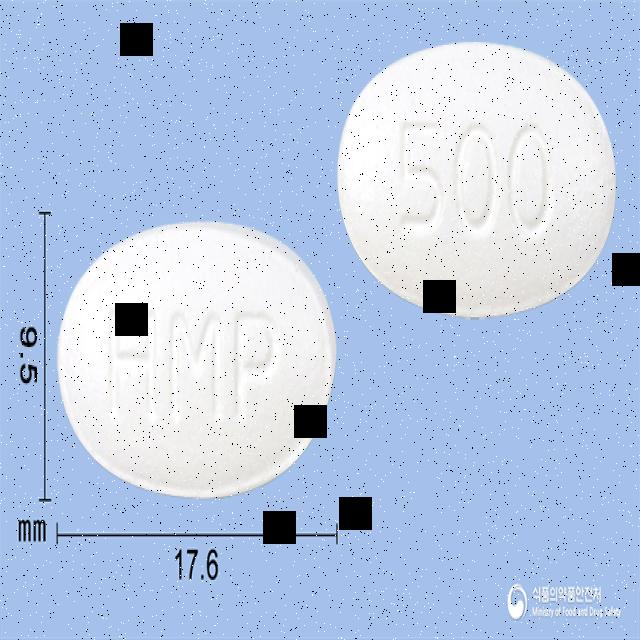Amoclan Duo Tab- Myungmoon: (54, 218, 340, 504), (336, 41, 616, 321)
